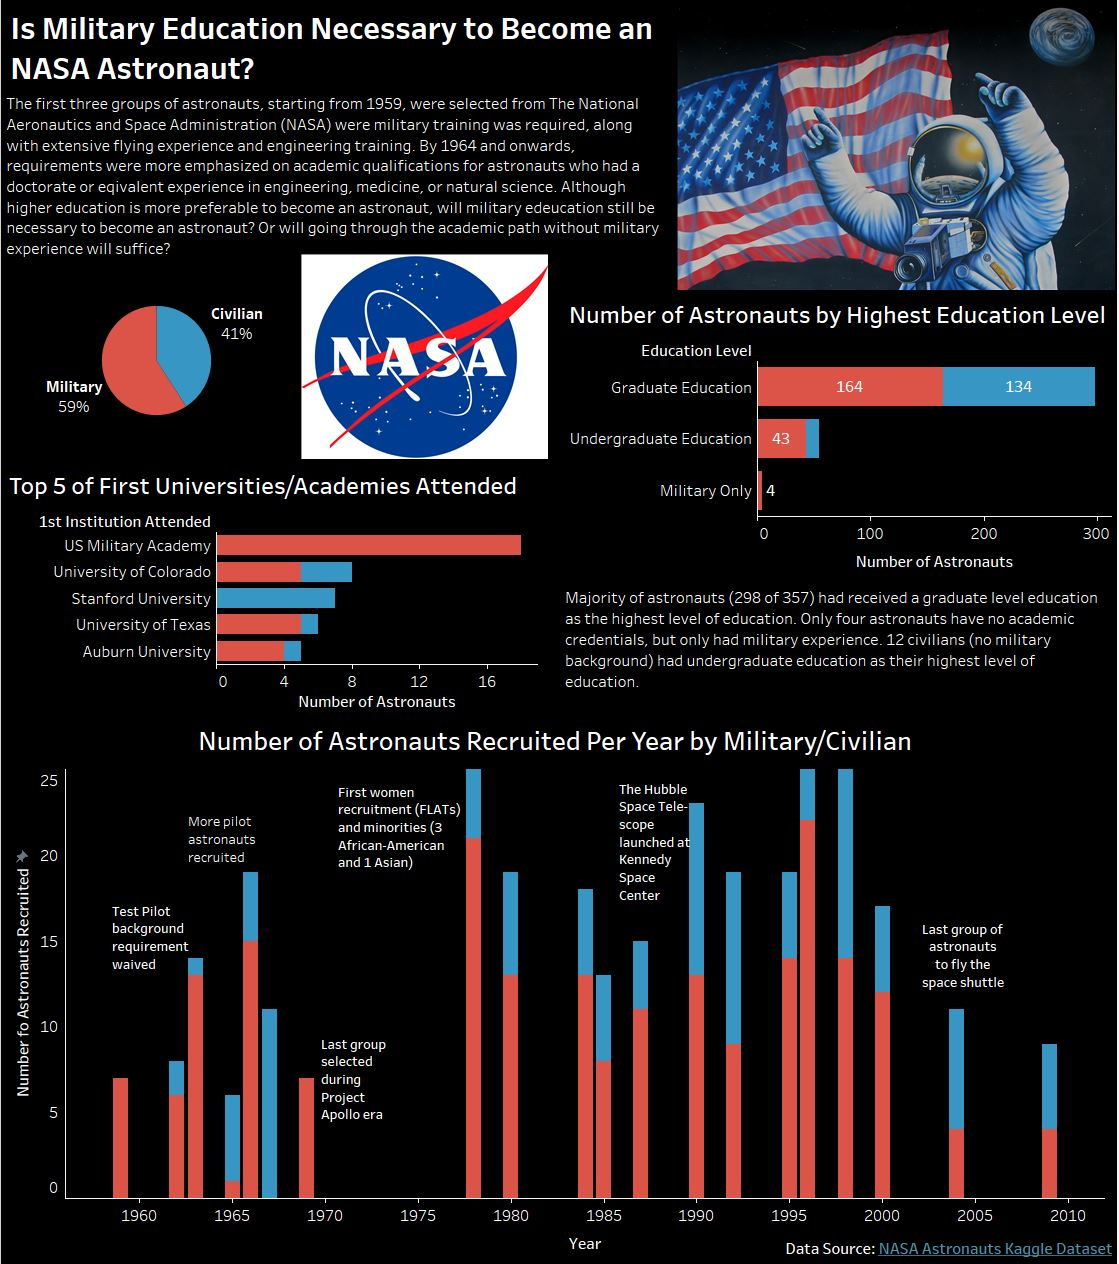

Layout of this report page (visuals, bound fields, positions):
{"tool":"tableau","page":{"name":"NASA Astronauts 1959-2013","canvas":[1116,1264],"ordinal":0},"visuals":[{"type":"image","param":"Image/nasa astronaut clipart.jpg","box":[676,3.6,438,339.8]},{"type":"text","box":[6,6,656,90]},{"type":"text","box":[2,93,667,169]},{"type":"image","box":[300,254,247,210]},{"type":"worksheet","title":"Number of Astronauts by Highest Education Level","mark":"Automatic","rows":["Calculation_1225542105771495438"],"cols":["Name"],"box":[564,294,547,398]},{"type":"text","box":[64.8,618.9,109.8,39.3]},{"type":"worksheet","title":"Number of Astronauts Recruited Per Year by Military/Civilian","mark":"Bar","rows":["Name"],"cols":["Year"],"box":[4,719,1100,542]},{"type":"text","box":[781,1228,334,40]}]}

Visuals, with their boxes in screenshot pixels (x1, y1, x2, y2), scaled from the page's 1116x1264 canvas onto the 1119x1264 screenshot:
image: (x1=678, y1=4, x2=1117, y2=343)
text: (x1=6, y1=6, x2=664, y2=96)
text: (x1=2, y1=93, x2=671, y2=262)
image: (x1=301, y1=254, x2=548, y2=464)
"Number of Astronauts by Highest Education Level" worksheet: (x1=566, y1=294, x2=1114, y2=692)
text: (x1=65, y1=619, x2=175, y2=658)
"Number of Astronauts Recruited Per Year by Military/Civilian" worksheet (Bar marks): (x1=4, y1=719, x2=1107, y2=1261)
text: (x1=783, y1=1228, x2=1118, y2=1263)
